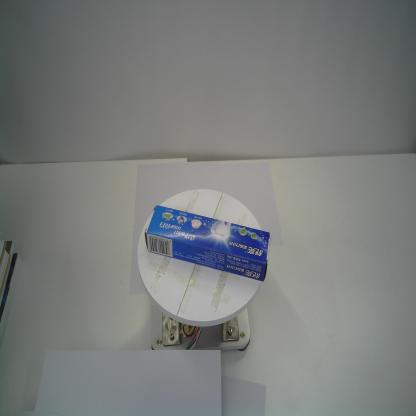Personal Hygiene: (144, 204, 271, 282)
